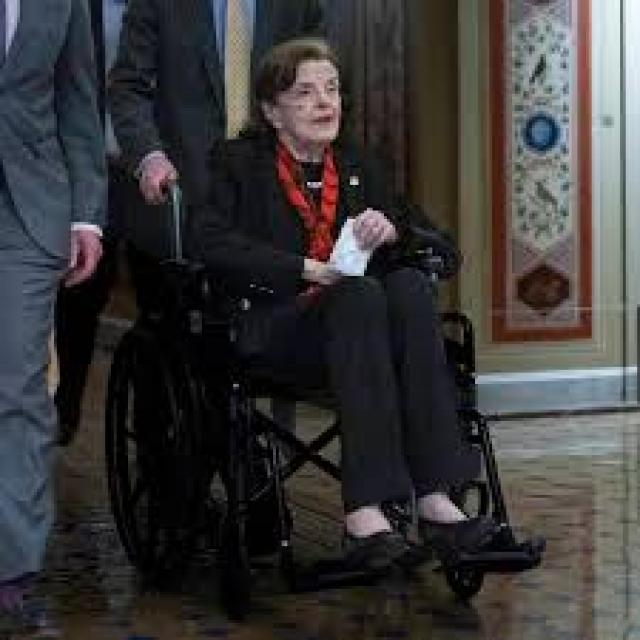wheelchairs: (91, 110, 577, 640)
